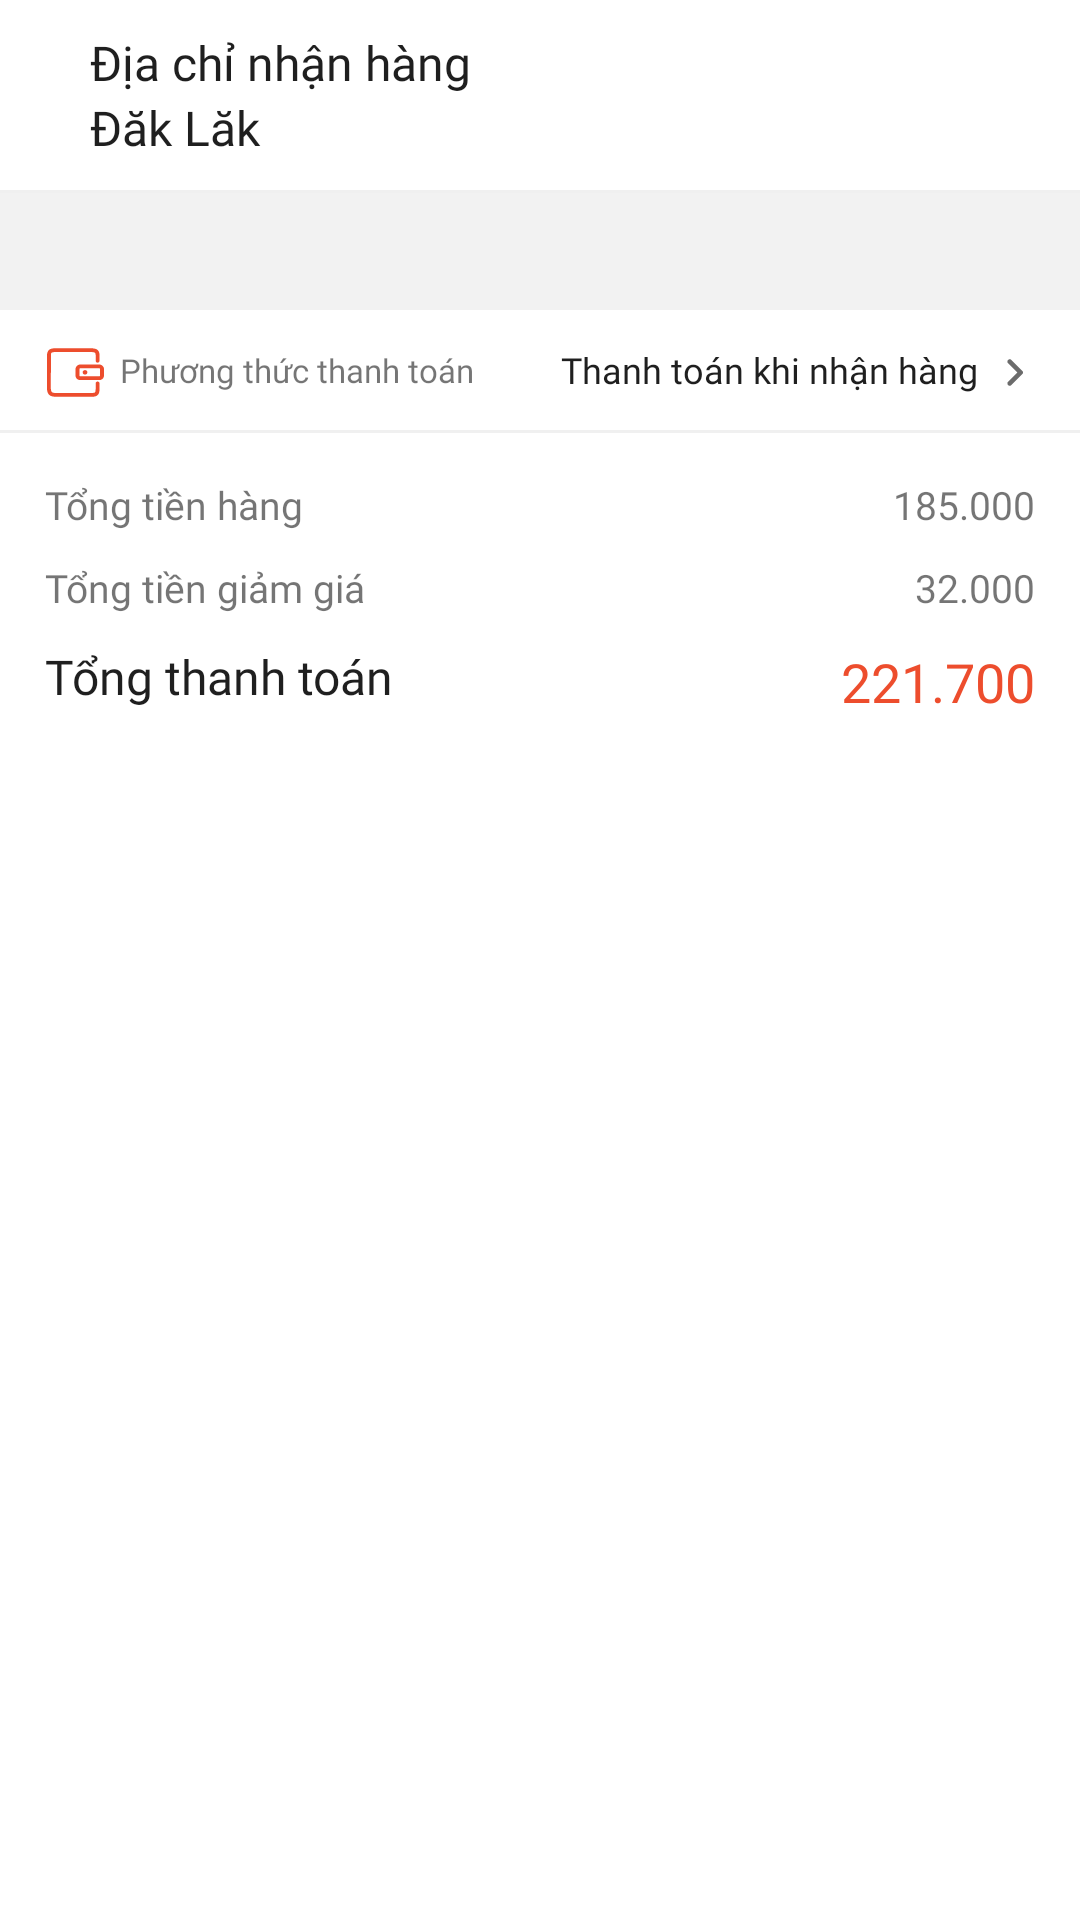

Named icons in this screenshot (1080 x 1920) and their centers, (x=x, y=y):
next edit: (x=1015, y=372)
pay: (x=75, y=372)
